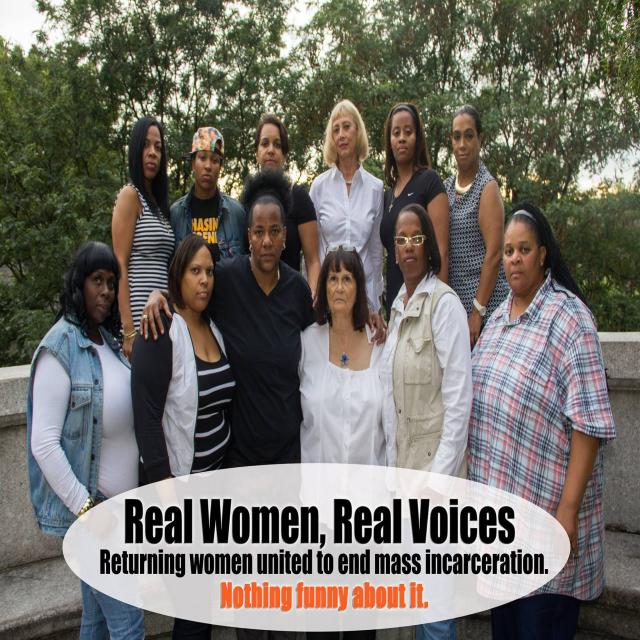body: (138, 166, 391, 640), (458, 198, 618, 640), (29, 239, 148, 640), (375, 200, 475, 640), (128, 232, 240, 489), (294, 243, 394, 466), (307, 100, 386, 327), (238, 113, 323, 316), (442, 105, 510, 353), (110, 114, 176, 367), (379, 101, 450, 324), (168, 125, 248, 261)
